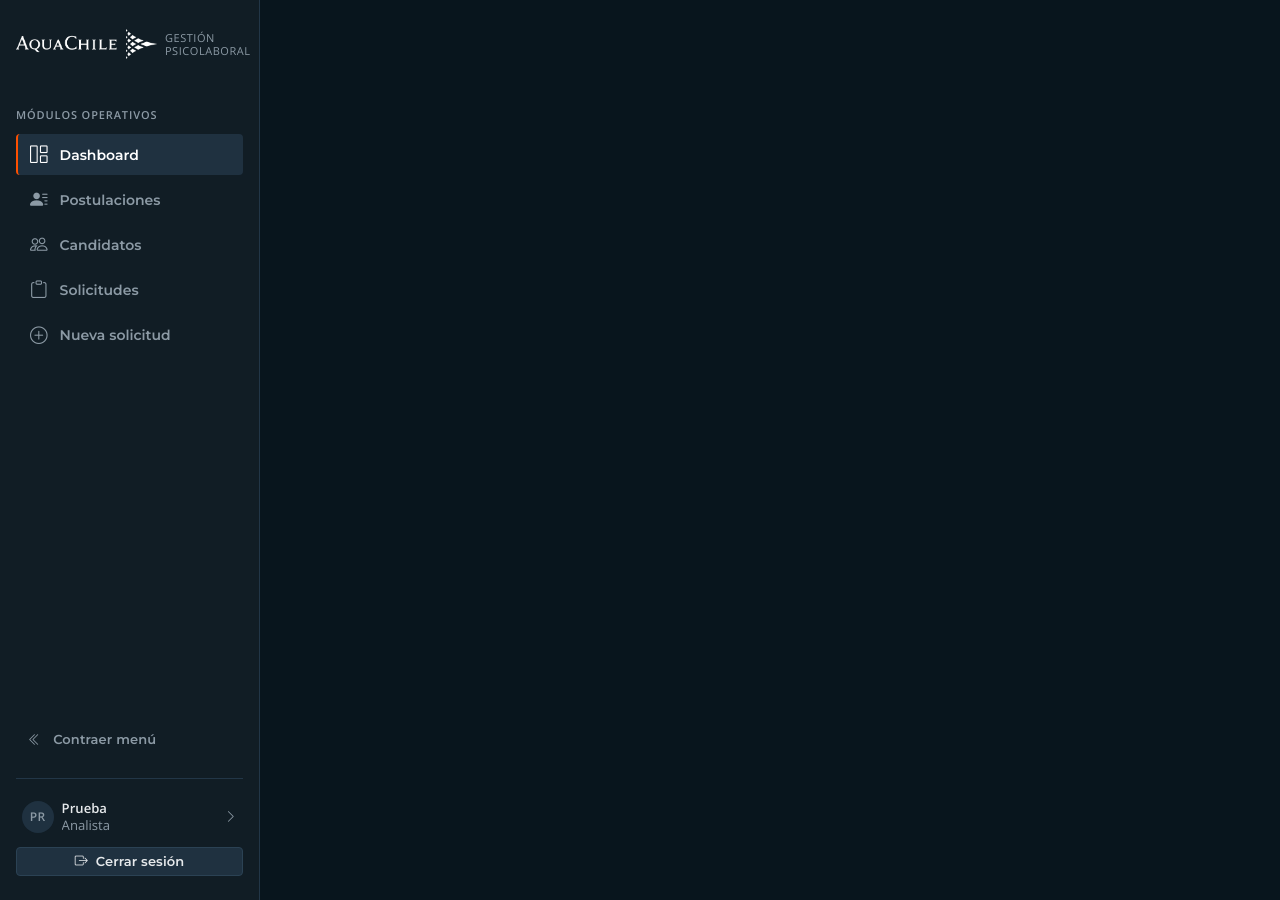
Navbar · enlaces según el rol › el avatar abre la ventana Mi perfil
Click the button with aria-label "Mi perfil: Prueba" at (130, 816), box [16,794,243,838]
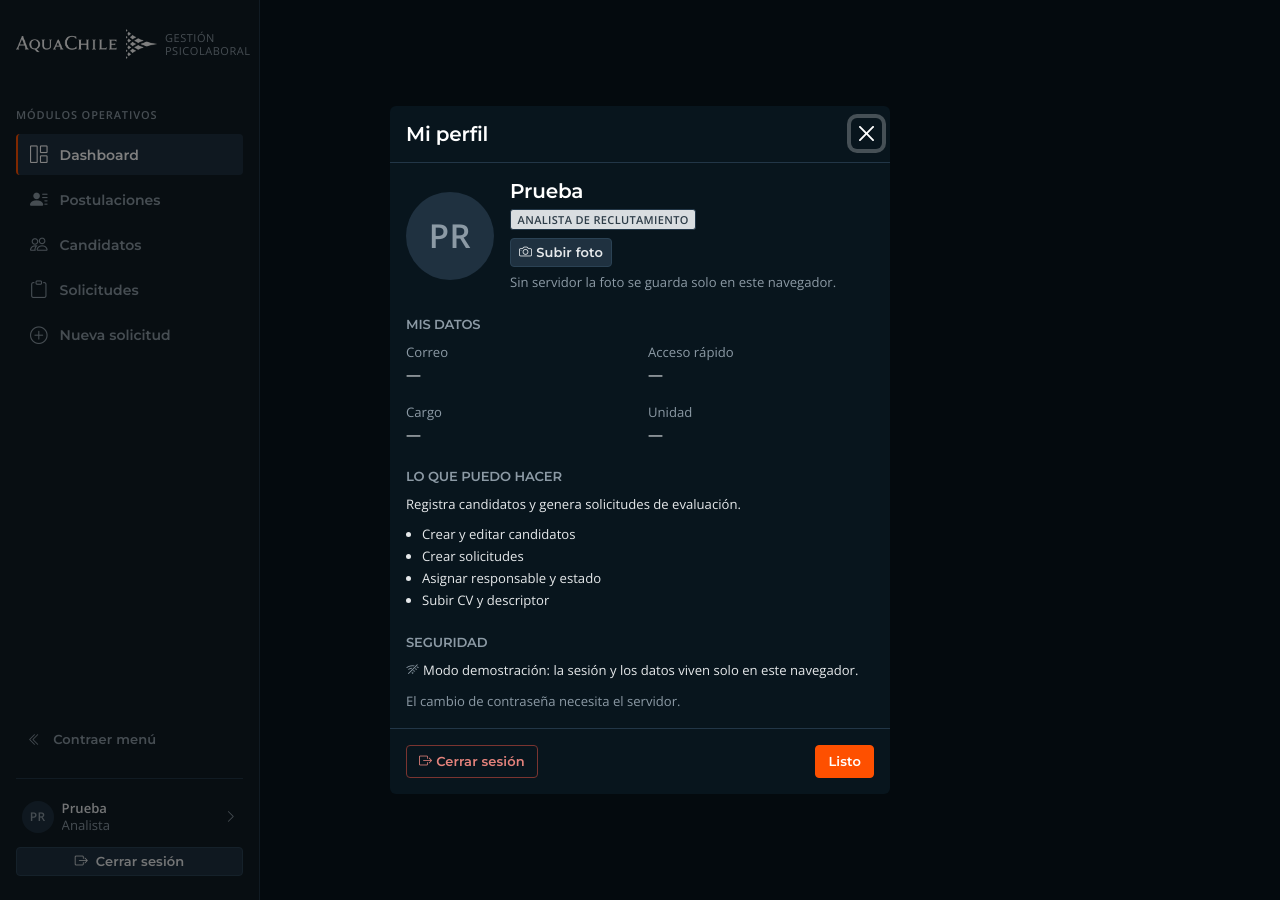
Expected: the dialog "Mi perfil" is shown, [390,106,890,794]
Click the button "Listo" at (845, 761), box [815,744,874,778]
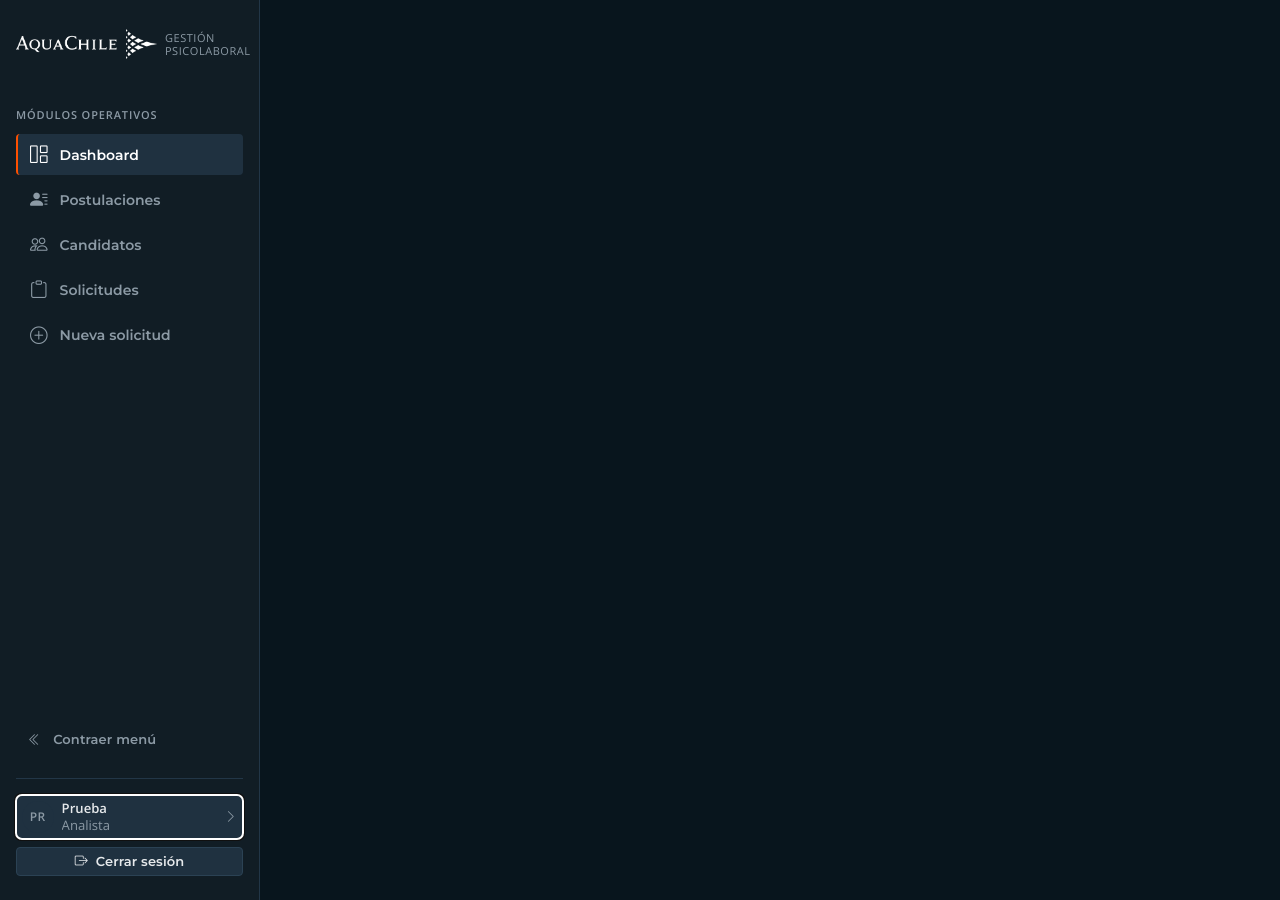
Expected: the dialog is gone
